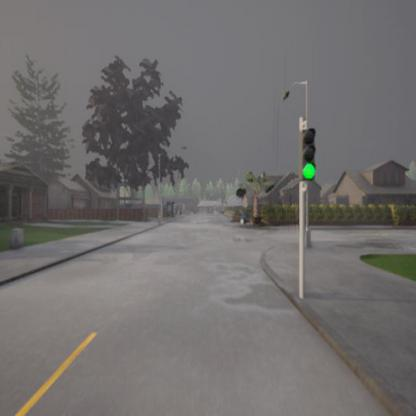traffic_light_green: (301, 128, 317, 180)
